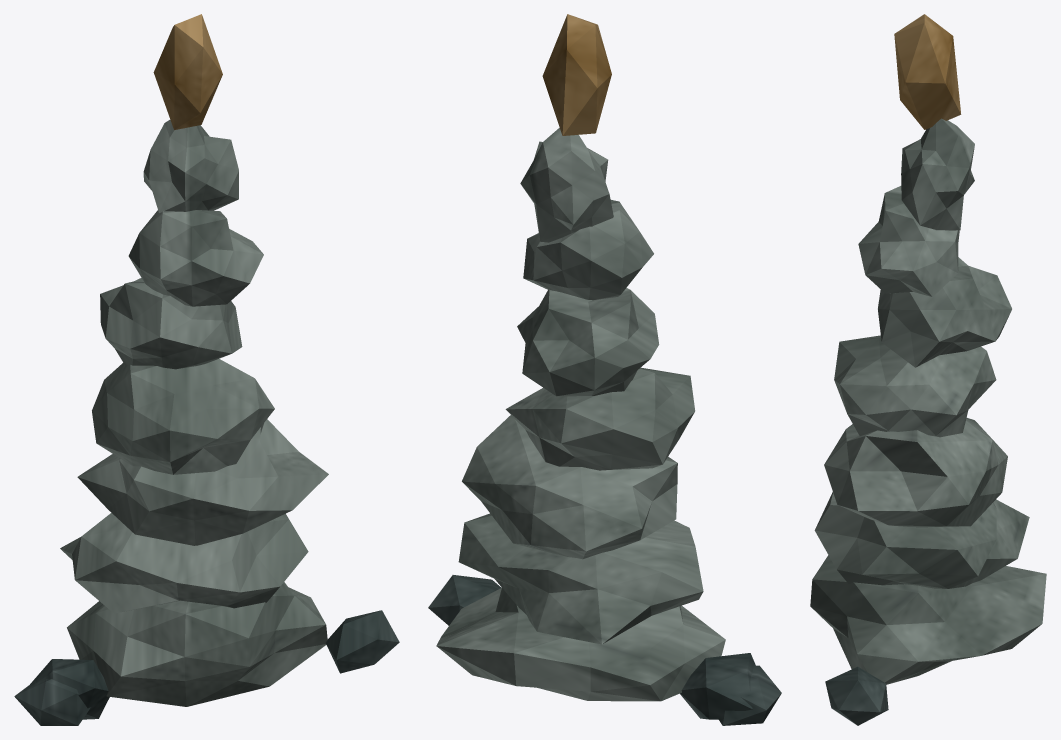
Rendered from 0617_cairn_17.glb.
The picture shows the model from 3 angles, left to right: view 1: azimuth 30°, elevation 25°; view 2: azimuth 150°, elevation 25°; view 3: azimuth 270°, elevation 25°; orthographic projection. The views are drawn at different scales.
Visible parts, largest first — view 1: stone, stone_dark, brass; view 2: stone, stone_dark, brass; view 3: stone, brass, stone_dark.
Part boxes in pixels (left/top/right/bottom): stone: left=60, top=120, right=328, bottom=706; stone_dark: left=14, top=610, right=399, bottom=725; brass: left=153, top=14, right=222, bottom=130; stone: left=436, top=128, right=725, bottom=701; stone_dark: left=428, top=575, right=781, bottom=725; brass: left=542, top=14, right=611, bottom=135; stone: left=810, top=118, right=1046, bottom=684; brass: left=894, top=14, right=961, bottom=129; stone_dark: left=825, top=666, right=888, bottom=725.
Size of the model in its own units: 1.52 by 2.77 by 0.918.
3 materials, 3 textured.
